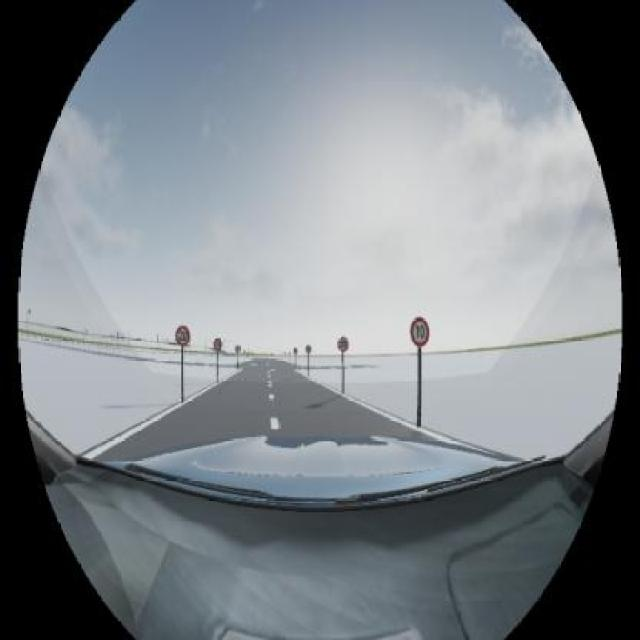forb_speed_over_10: (410, 315, 428, 348)
forb_speed_over_20: (176, 325, 190, 347), (338, 336, 349, 352)
